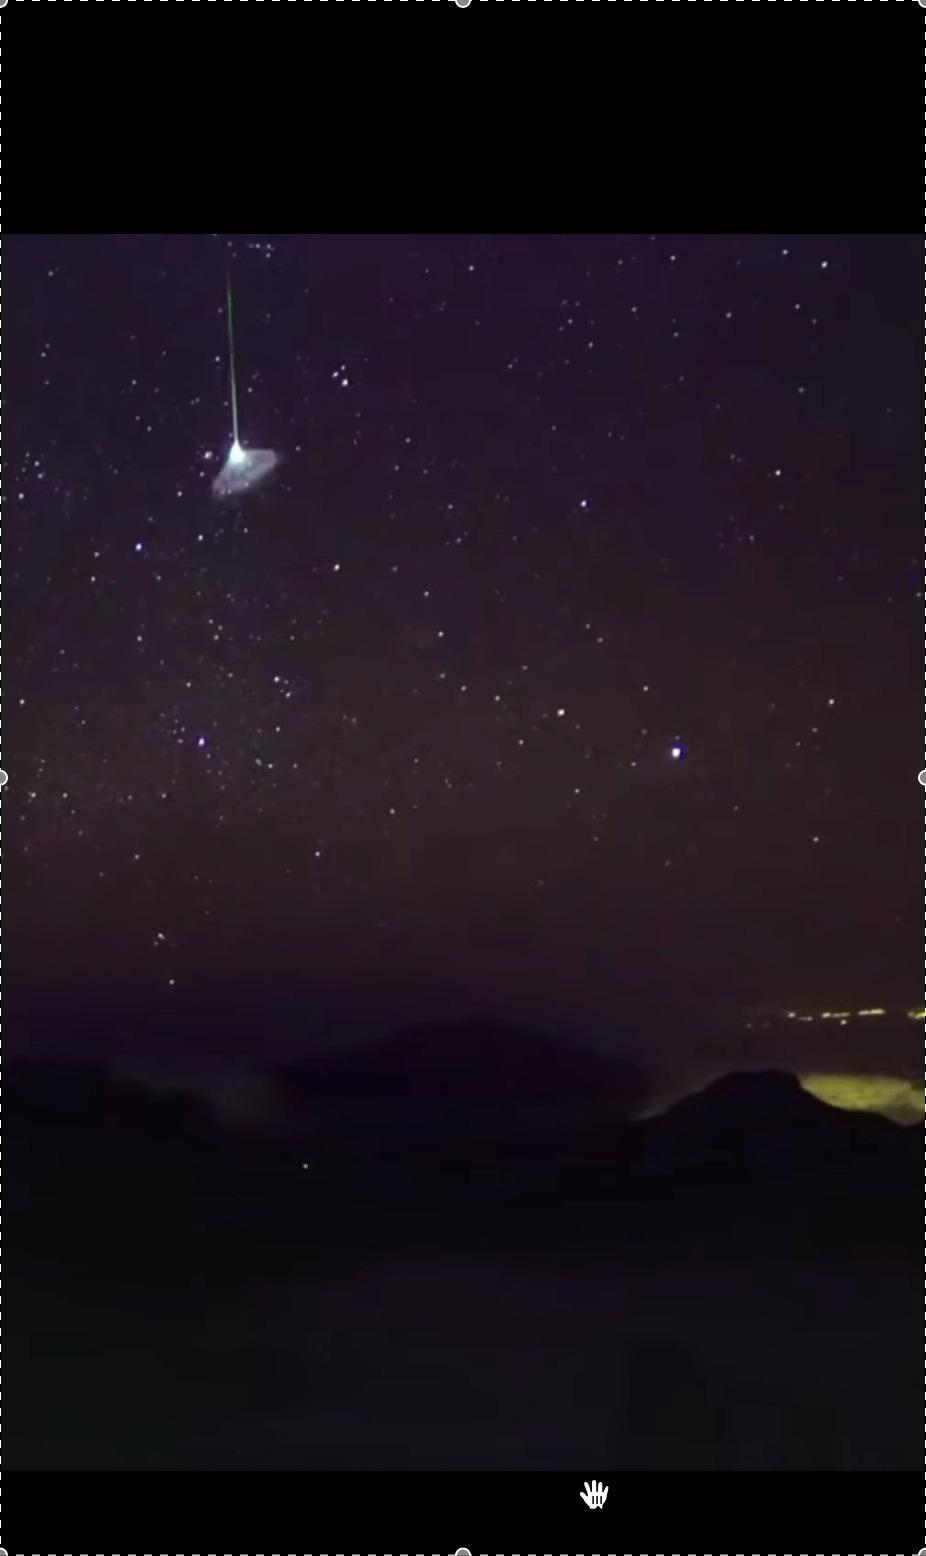meteorite: (207, 248, 259, 506)
